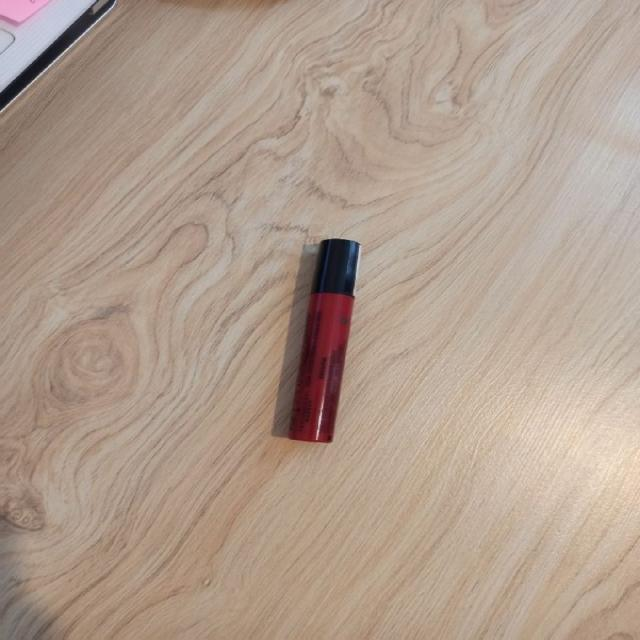lipstick: (286, 238, 361, 443)
